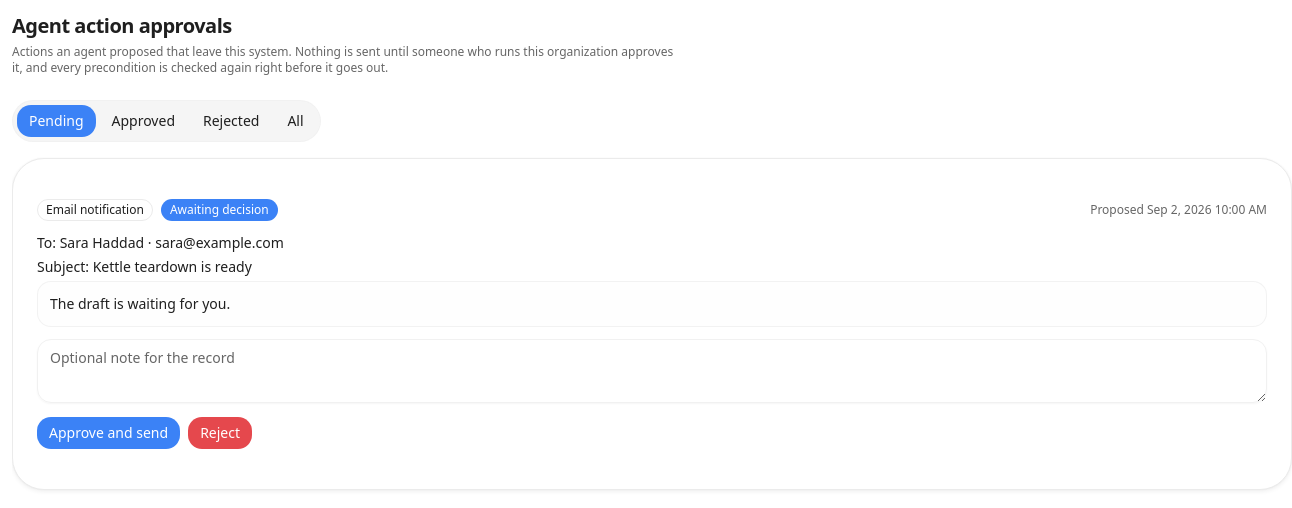
Scenario: organization approvals block › names a lost race for what it is
Check: the text "Kettle teardown is ready" is shown, box x1=93 y1=257 x2=252 y2=276
Click the button "Approve and send".
click(109, 433)  # box x1=37 y1=417 x2=180 y2=449
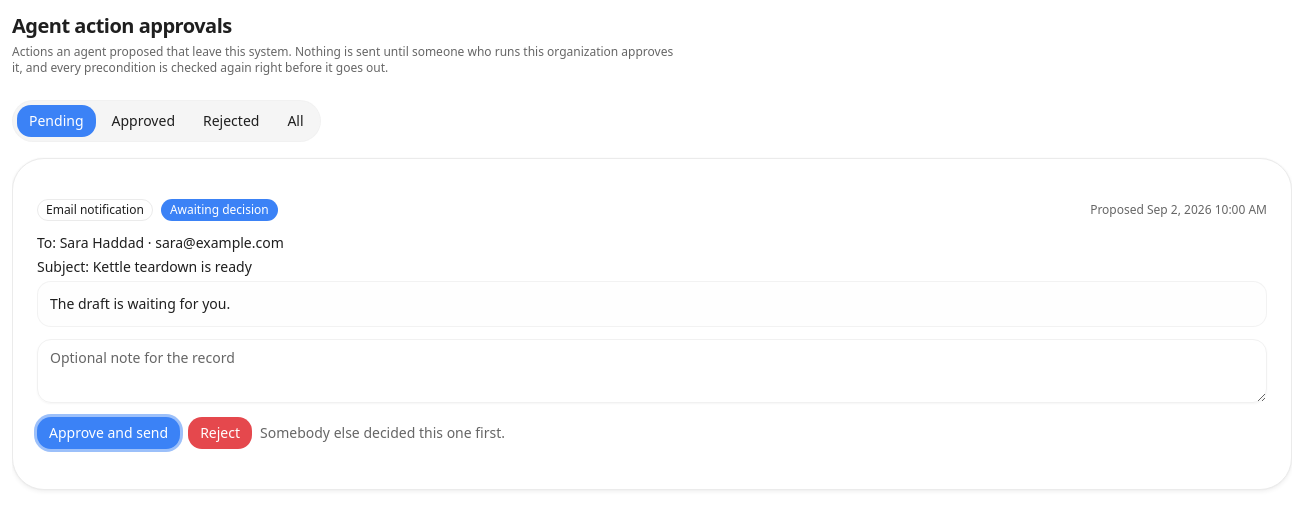
Check: the text "Somebody else decided this one first." is shown, box x1=260 y1=423 x2=505 y2=443
